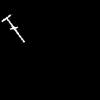double_crochet: (2, 15, 24, 41)
